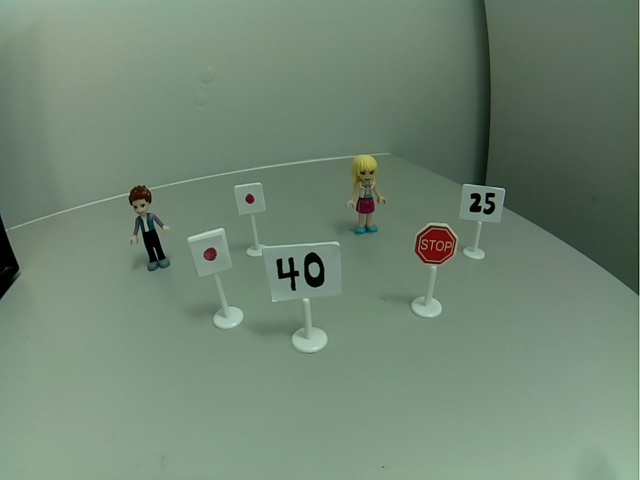people: (123, 184, 174, 273), (346, 155, 389, 237)
red light: (188, 230, 234, 277), (233, 182, 268, 217)
speed 25: (459, 181, 506, 223)
speed 40: (261, 243, 344, 303)
stop: (413, 221, 458, 267)
